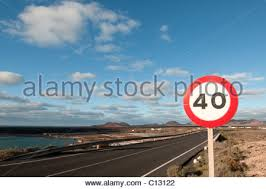Speed_limit_40km: (183, 75, 239, 128)
